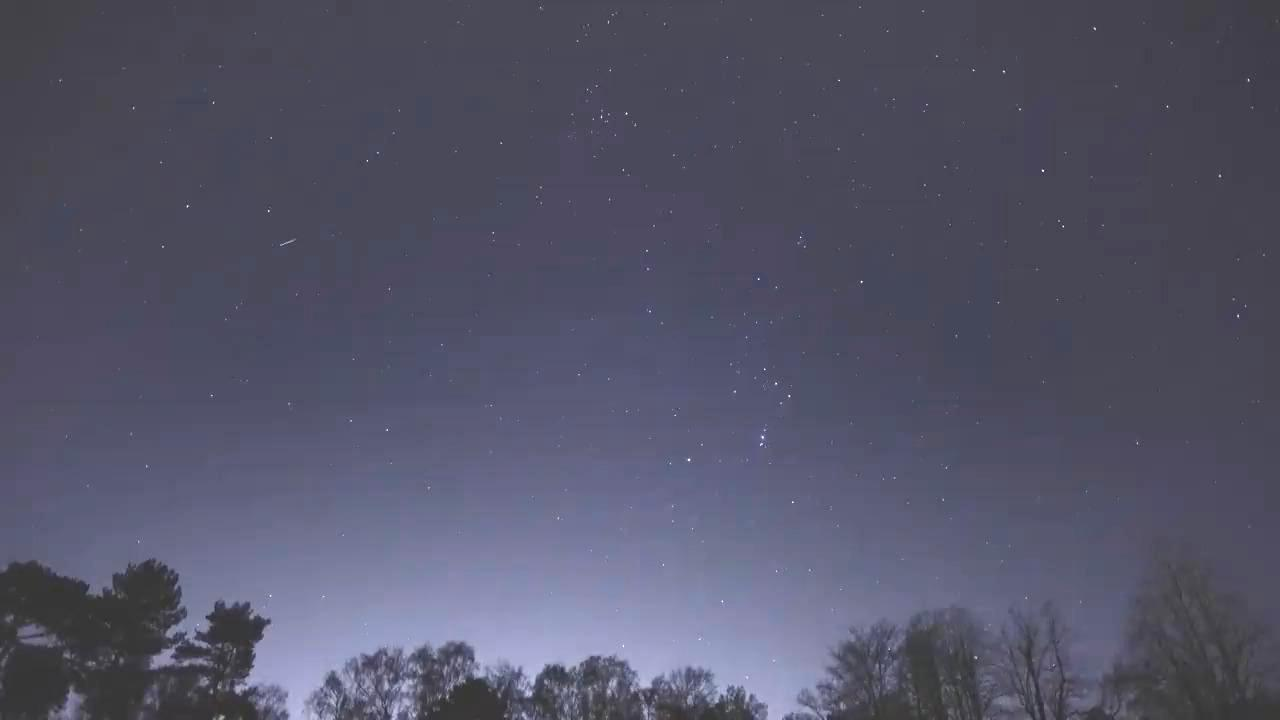meteorite: (262, 230, 312, 253)
